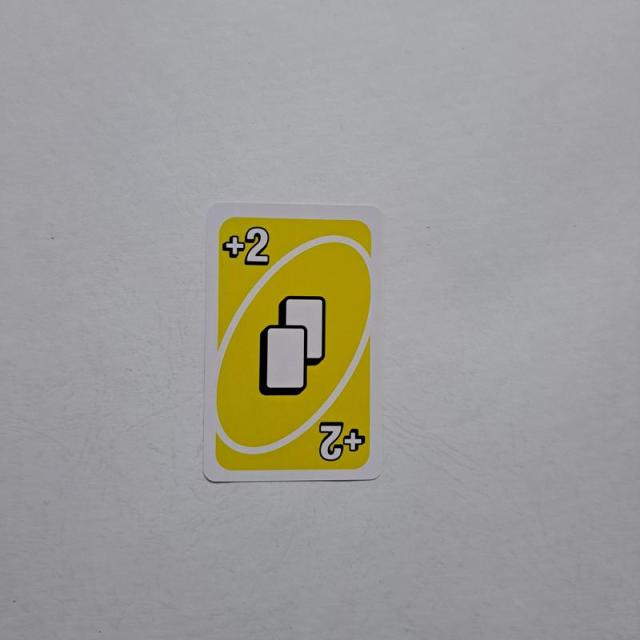Draw_Two: (220, 222, 278, 272)
Yellow_Card: (211, 210, 377, 474)
